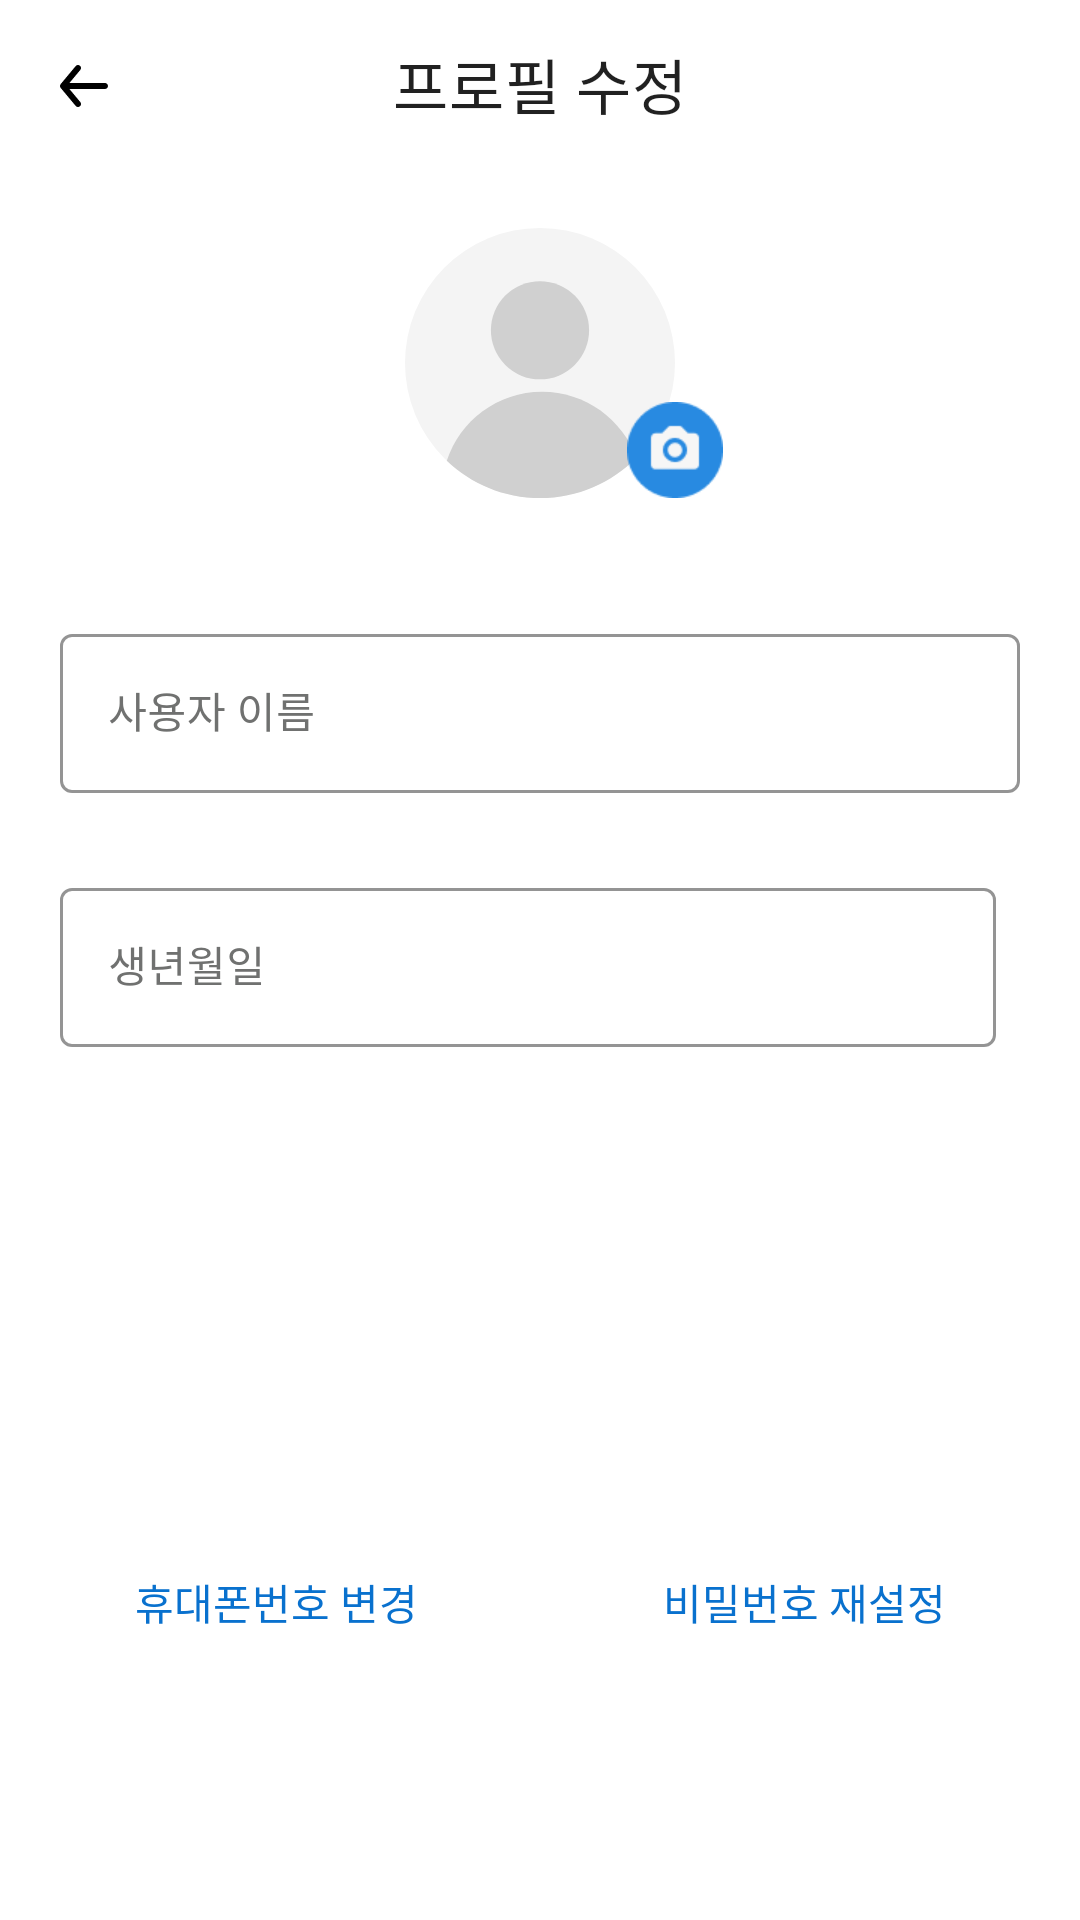

Locate icon controls on the screen. Image size 1080×1920, boxes as (x1, y1, x2, y2).
camera: (627, 402, 723, 498)
profile: (447, 281, 675, 498)
